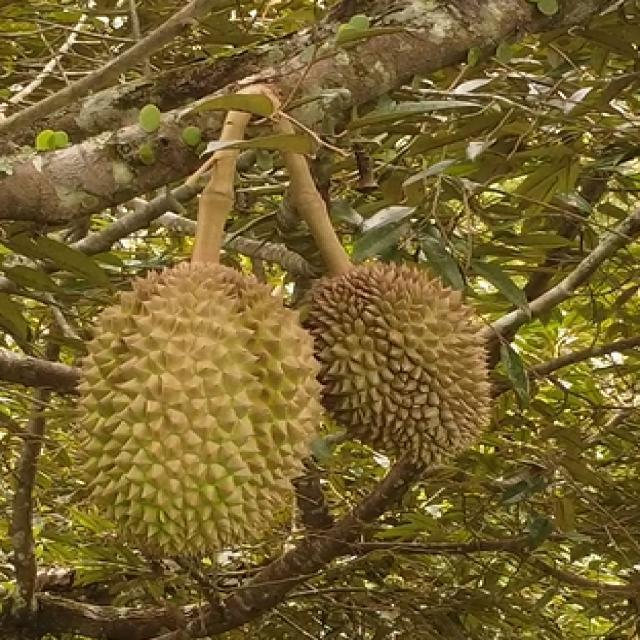RIPE: (75, 256, 323, 552)
UNRIPE: (313, 262, 492, 468)
